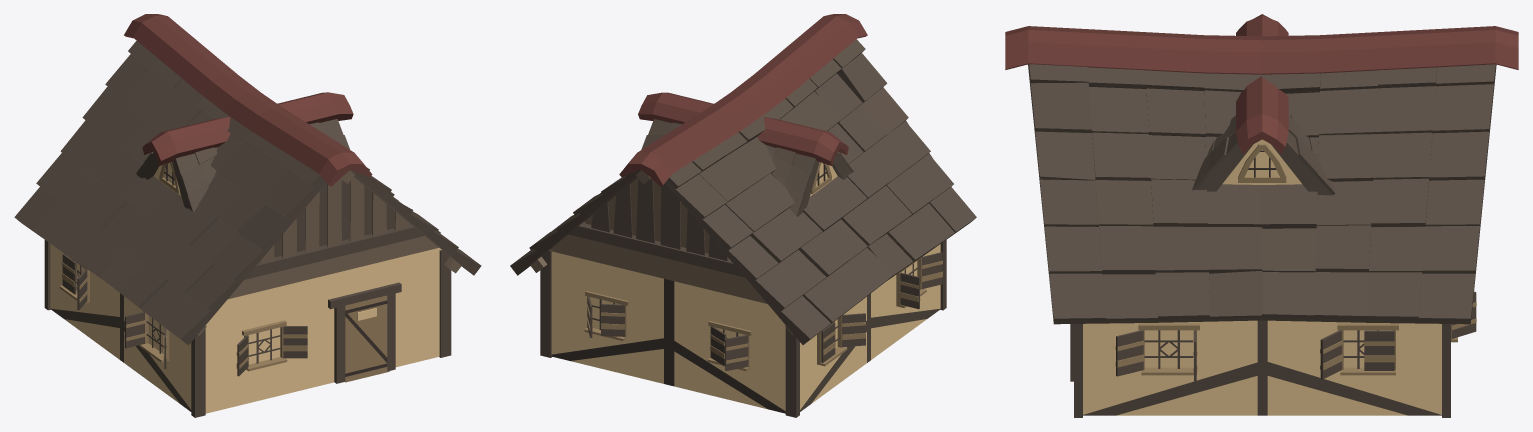
Rendered from house1.fbx.
3 views of the same model, side by side, from view 1: azimuth 30°, elevation 25°; view 2: azimuth 150°, elevation 25°; view 3: azimuth 270°, elevation 25° (orthographic). The views are drawn at different scales.
Visible parts, largest first — view 1: Cube; view 2: Cube; view 3: Cube.
Part boxes in pixels (left/top/right/bottom): Cube: left=14, top=14, right=481, bottom=417; Cube: left=510, top=14, right=976, bottom=417; Cube: left=1005, top=14, right=1518, bottom=417.
Size of the model in its own units: 48.02 by 37.37 by 56.09.
